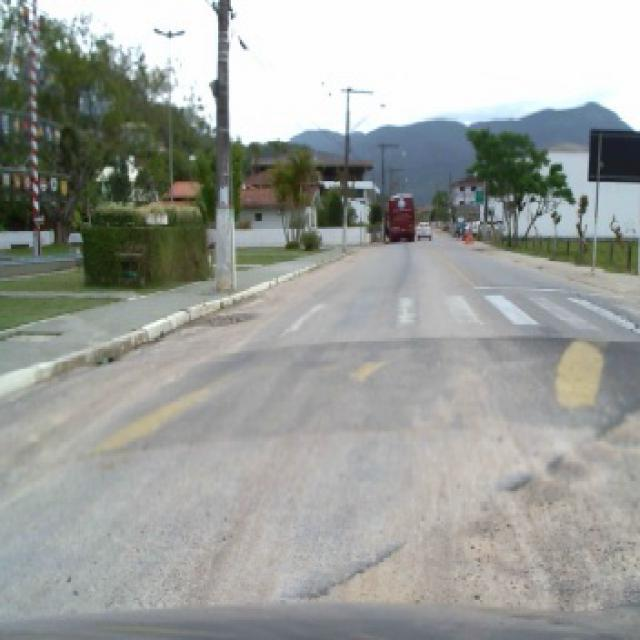Poth-hole: (71, 336, 640, 456), (193, 308, 256, 324)
